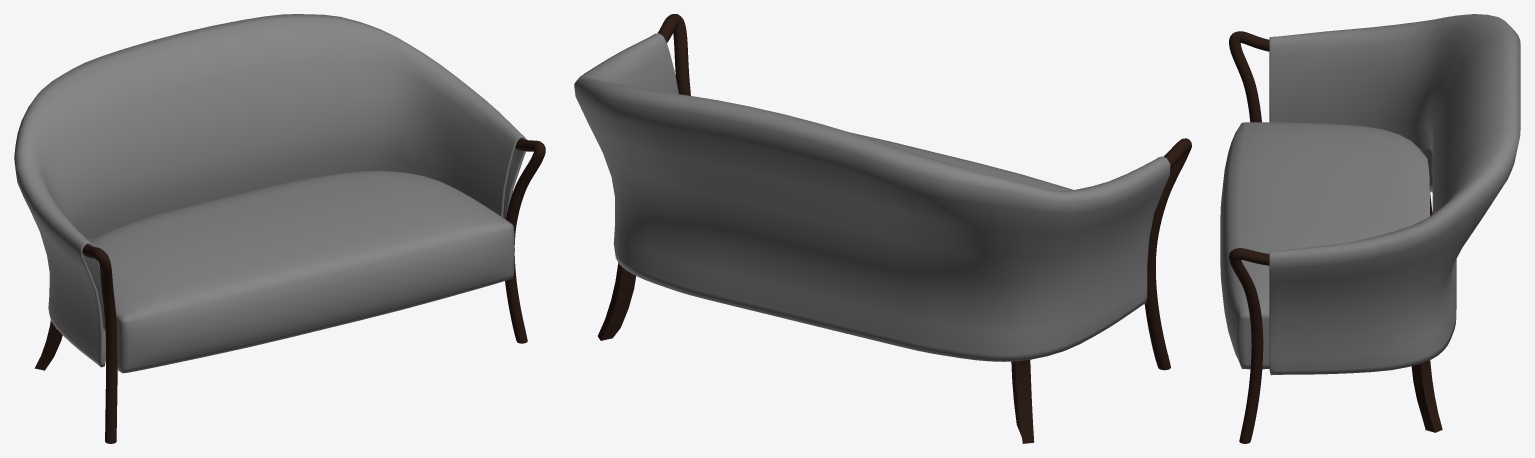
File: issb.FBX
3 renders of one model, left to right at view 1: azimuth 30°, elevation 25°; view 2: azimuth 150°, elevation 25°; view 3: azimuth 270°, elevation 25°, orthographic. The views are drawn at different scales.
Visible parts, largest first — view 1: izumrud-peggy07, izumrud-peggy00, izumrud-peggy02, izumrud-peggy17, izumrud-peggy01; view 2: izumrud-peggy07, izumrud-peggy02, izumrud-peggy00, izumrud-peggy01, izumrud-peggy18, izumrud-peggy17; view 3: izumrud-peggy07, izumrud-peggy00, izumrud-peggy17, izumrud-peggy02, izumrud-peggy18.
Boxes of the visible parts, <box> form: izumrud-peggy07: <box>14,14,526,367</box>; izumrud-peggy00: <box>89,170,514,373</box>; izumrud-peggy02: <box>82,244,117,443</box>; izumrud-peggy17: <box>505,138,545,343</box>; izumrud-peggy01: <box>34,320,62,370</box>; izumrud-peggy07: <box>574,33,1170,361</box>; izumrud-peggy02: <box>1144,138,1191,370</box>; izumrud-peggy00: <box>851,132,1072,191</box>; izumrud-peggy01: <box>1011,360,1034,443</box>; izumrud-peggy18: <box>598,263,635,340</box>; izumrud-peggy17: <box>657,14,690,95</box>; izumrud-peggy07: <box>1269,14,1520,375</box>; izumrud-peggy00: <box>1220,122,1429,369</box>; izumrud-peggy17: <box>1229,248,1269,443</box>; izumrud-peggy02: <box>1229,31,1269,122</box>; izumrud-peggy18: <box>1411,360,1442,432</box>.
Size of the model in its own units: 125 by 69.68 by 71.69.
